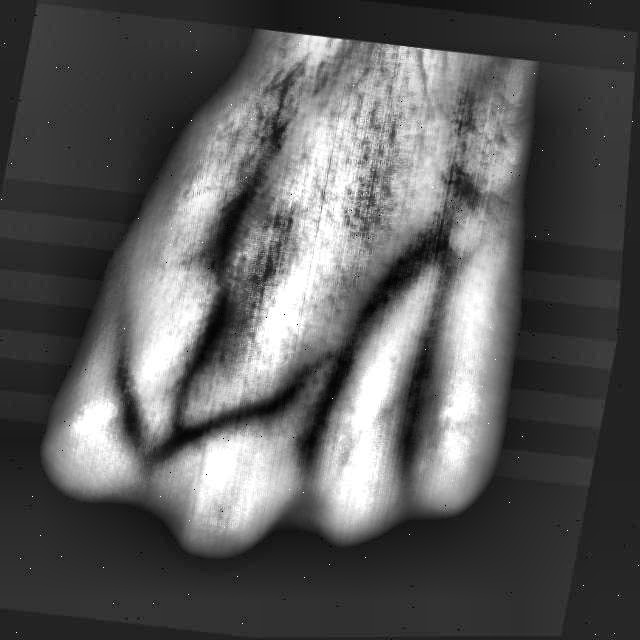Vein: (316, 215, 446, 396)
